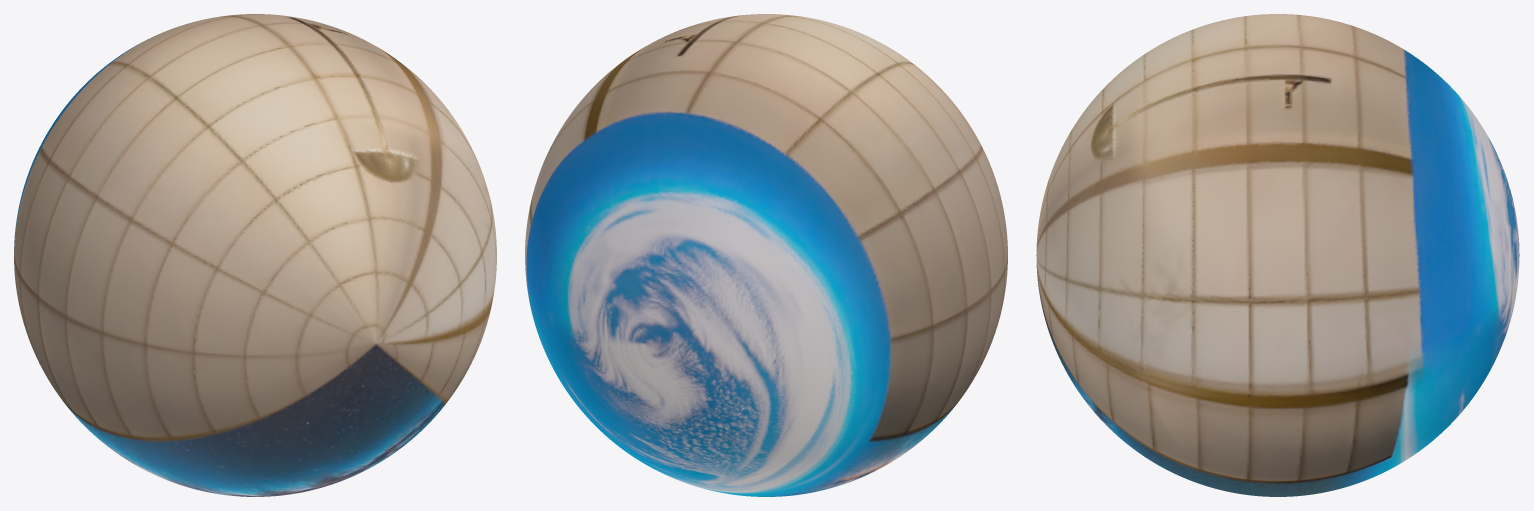
The model's file is room-rain.glb.
The picture shows the model from 3 angles, left to right: view 1: azimuth 30°, elevation 25°; view 2: azimuth 150°, elevation 25°; view 3: azimuth 270°, elevation 25°; orthographic projection.
Bounding box in the file's own units: 5.69 × 5.69 × 5.69.
